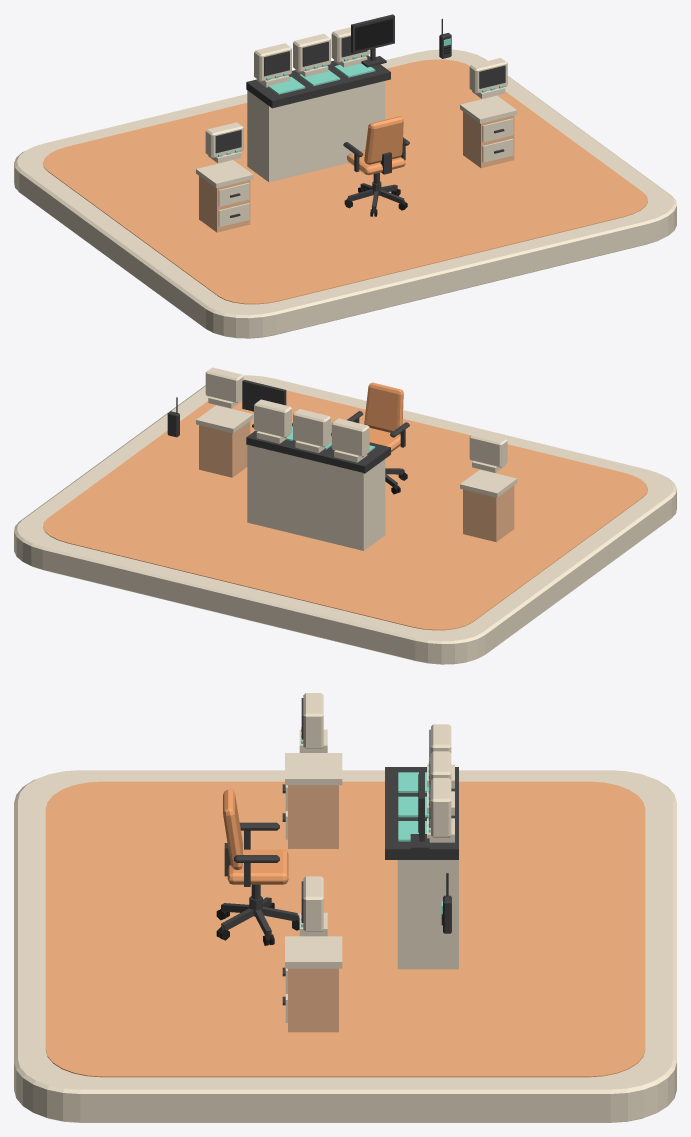
3 renders of one model, top to bottom at view 1: azimuth 30°, elevation 25°; view 2: azimuth 150°, elevation 25°; view 3: azimuth 270°, elevation 25°, orthographic. The views are drawn at different scales.
Visible parts, largest first — view 1: COM-02 Floor Surface, COM-01 Rounded Base Direct, Console, COM-04_Chair_blender_direct, Panel, Frame, Body, Body.001, Top.001, Top, Housing, Housing.001 (+9 smaller); view 2: COM-02 Floor Surface, COM-01 Rounded Base Direct, Console, COM-04_Chair_blender_direct, Body, Body.001, Panel, Housing, Housing.001, Housing.002, Housing.003, Housing.004 (+3 smaller); view 3: COM-02 Floor Surface, COM-01 Rounded Base Direct, Console, COM-04_Chair_blender_direct, Body.001, Body, Panel, Top.001, Top, Housing.002, Housing.004, Housing.003 (+1 smaller).
Part boxes in pixels (bbox=[...]): COM-02 Floor Surface: bbox=[43, 59, 647, 304]; COM-01 Rounded Base Direct: bbox=[14, 49, 676, 338]; Console: bbox=[247, 81, 385, 182]; COM-04_Chair_blender_direct: bbox=[343, 116, 409, 216]; Panel: bbox=[246, 55, 390, 108]; Frame: bbox=[351, 14, 394, 67]; Body: bbox=[199, 176, 250, 232]; Body.001: bbox=[463, 111, 514, 167]; Top.001: bbox=[460, 95, 517, 123]; Top: bbox=[196, 160, 253, 188]; Housing: bbox=[254, 43, 291, 81]; Housing.001: bbox=[293, 33, 330, 72]; COM-02 Floor Surface: bbox=[43, 390, 647, 630]; COM-01 Rounded Base Direct: bbox=[14, 375, 676, 664]; Console: bbox=[247, 444, 385, 550]; COM-04_Chair_blender_direct: bbox=[347, 382, 409, 494]; Body: bbox=[463, 485, 514, 541]; Body.001: bbox=[199, 421, 250, 477]; Panel: bbox=[246, 423, 390, 473]; Housing: bbox=[331, 418, 369, 456]; Housing.001: bbox=[293, 409, 330, 447]; Housing.002: bbox=[254, 399, 291, 437]; Housing.003: bbox=[469, 432, 507, 467]; Housing.004: bbox=[205, 367, 243, 403]; COM-02 Floor Surface: bbox=[45, 781, 645, 1077]; COM-01 Rounded Base Direct: bbox=[14, 770, 676, 1122]; Console: bbox=[397, 860, 458, 969]; COM-04_Chair_blender_direct: bbox=[216, 789, 299, 945]; Body.001: bbox=[288, 968, 338, 1032]; Body: bbox=[288, 785, 338, 848]; Panel: bbox=[385, 767, 458, 859]; Top.001: bbox=[285, 936, 342, 968]; Top: bbox=[285, 753, 342, 785]; Housing.002: bbox=[431, 778, 451, 837]; Housing.004: bbox=[303, 876, 323, 931]; Housing.003: bbox=[303, 693, 323, 748].
Size of the model in its own units: 6 by 1.88 by 5.2.
Materials: 1 (1 with a texture image).
